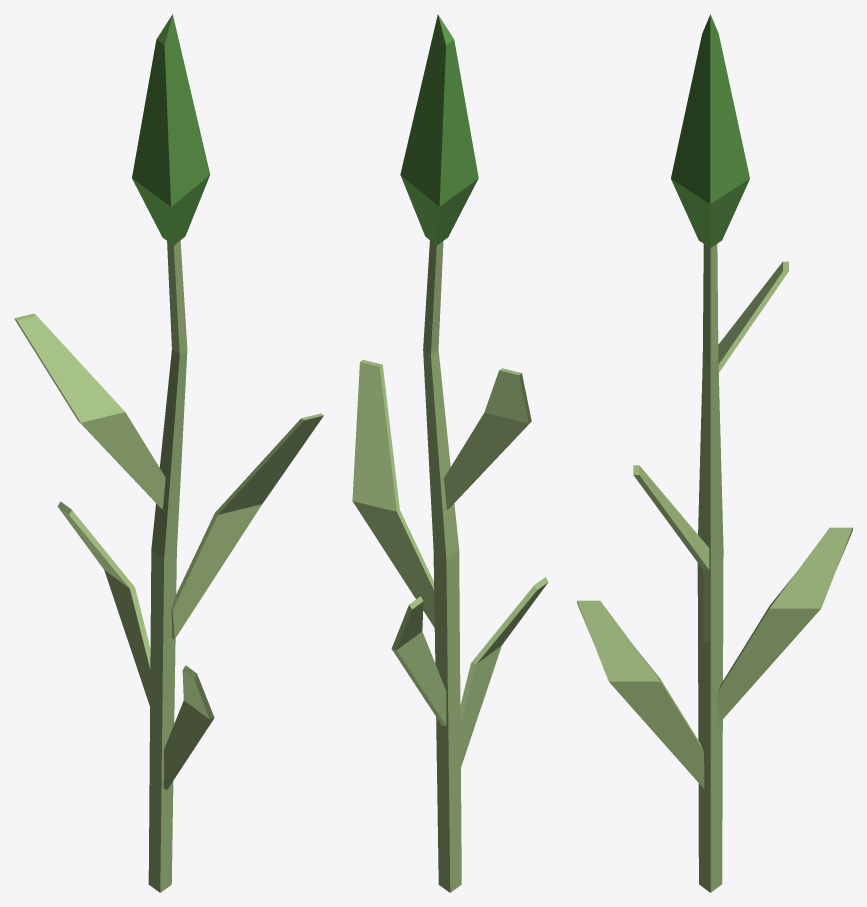
Rendered from plants_b_59.gltf.
3 views of the same model, side by side, from view 1: azimuth 30°, elevation 25°; view 2: azimuth 150°, elevation 25°; view 3: azimuth 270°, elevation 25° (orthographic).
Parts seen in each view (by area): view 1: plants_b003; view 2: plants_b003; view 3: plants_b003.
Part boxes in pixels (x1=…): plants_b003: x1=14, y1=14, x2=323, y2=892; plants_b003: x1=352, y1=14, x2=548, y2=892; plants_b003: x1=577, y1=14, x2=852, y2=892.
Bounding box in the file's own units: 0.4493 × 1.6 × 0.4558.
Materials: 1 (1 with a texture image).
